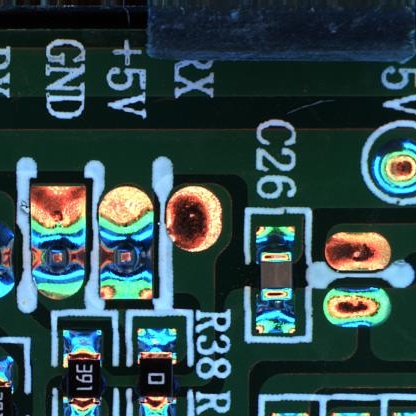spot: (164, 186, 224, 252), (98, 226, 152, 299), (30, 226, 86, 285), (323, 285, 393, 329), (325, 231, 392, 272), (369, 138, 416, 193), (1, 222, 16, 301)
